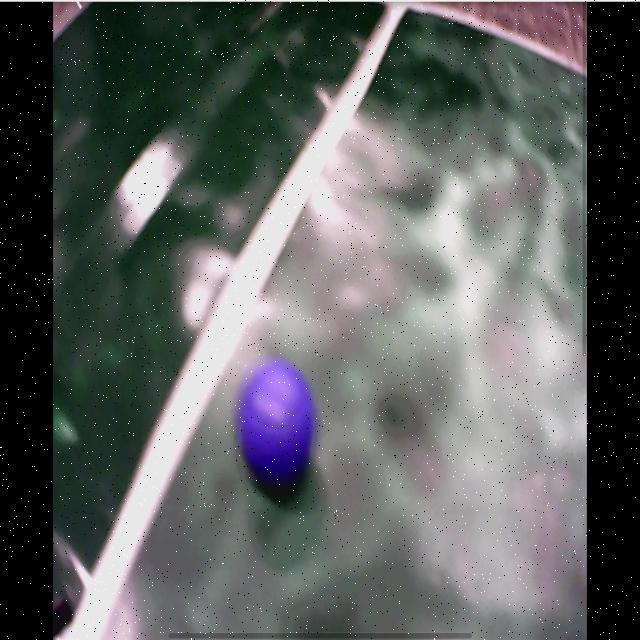ball: (242, 364, 317, 479)
